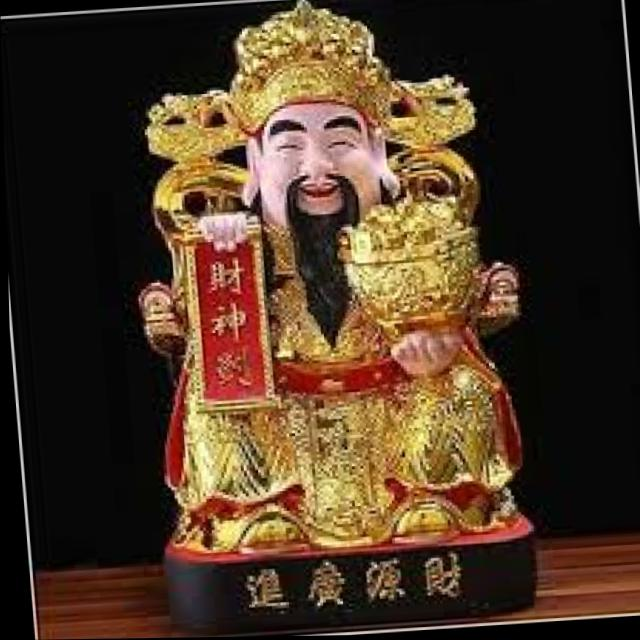Cai shen: (144, 0, 498, 520)
